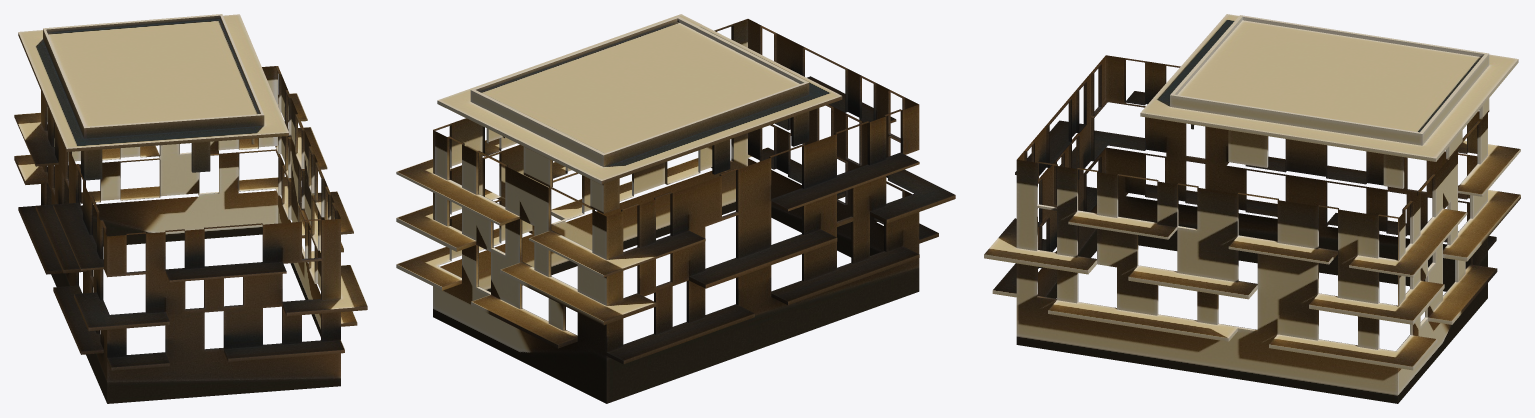
The model's file is Building_04.fbx.
3 views of the same model, side by side, from view 1: azimuth 30°, elevation 25°; view 2: azimuth 150°, elevation 25°; view 3: azimuth 270°, elevation 25° (orthographic). The views are drawn at different scales.
Visible parts, largest first — view 1: Building_04; view 2: Building_04; view 3: Building_04.
Part boxes in pixels (x1=…): Building_04: x1=14, y1=14, x2=367, y2=403; Building_04: x1=396, y1=14, x2=955, y2=403; Building_04: x1=984, y1=14, x2=1520, y2=403.
Size of the model in its own units: 26.36 by 15.8 by 31.28.
1 material, 1 textured.
